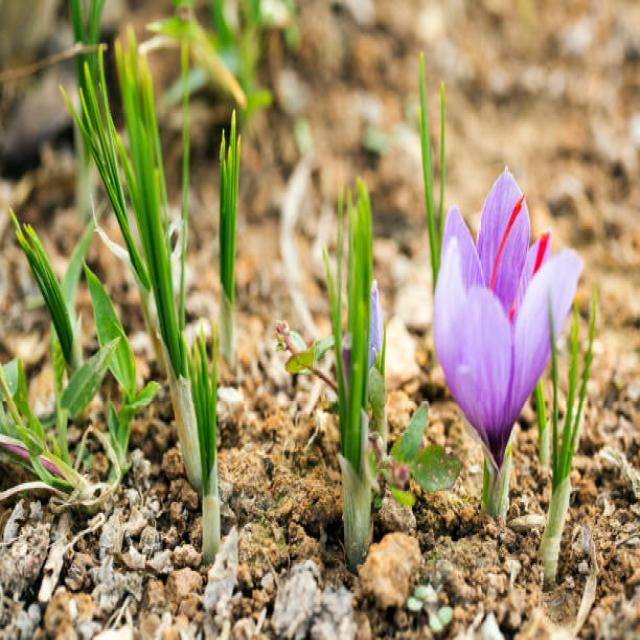saffron open: (434, 169, 582, 516)
